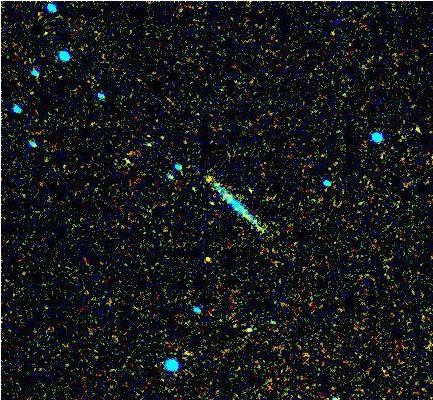star: (191, 240, 221, 270)
